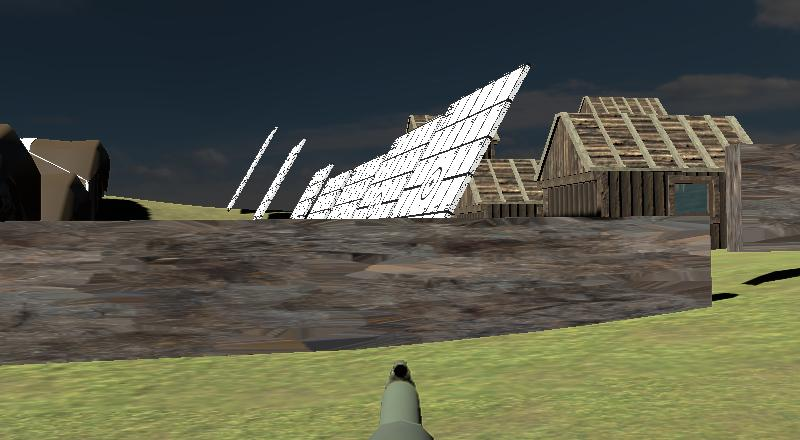House: (535, 98, 757, 232), (455, 152, 550, 227)
